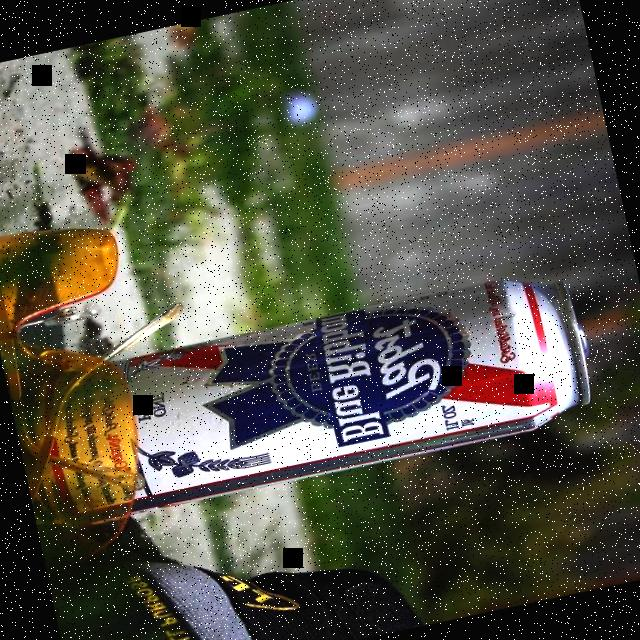can: (11, 257, 610, 538)
